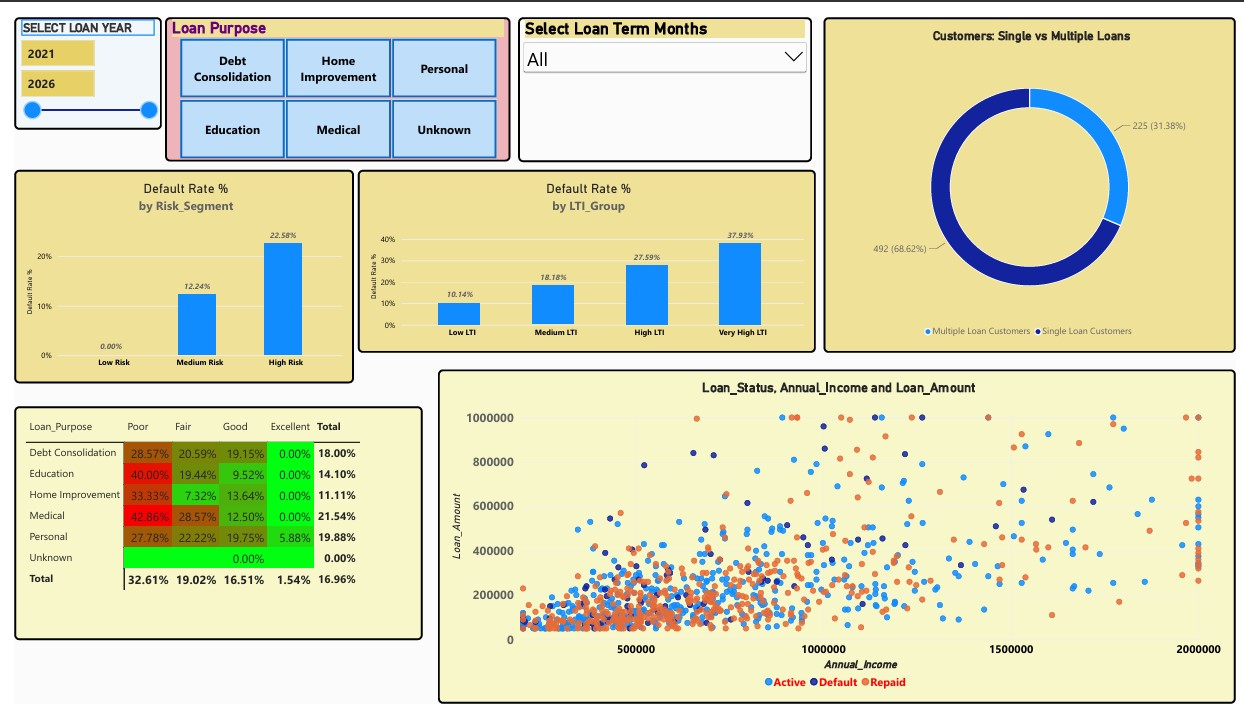

This screenshot's page, from the dashboard's own definition file:
{"tool":"powerbi","page":{"name":"Credit Risk and Customer Segmentation","canvas":[1920,1080],"ordinal":2},"visuals":[{"type":"slicer","fields":{"Values":["LDR.Loan_Year"]},"box":[0,0,232,177],"z":0},{"type":"slicer","fields":{"Values":["LDR.Loan_Purpose"]},"box":[237.1,0,542.9,227.1],"z":1000},{"type":"slicer","fields":{"Values":["LDR.Loan_Term_Months"]},"box":[792,0,462,228],"z":2000},{"type":"columnChart","fields":{"Category":["LDR.Risk_Segment"],"Y":["LDR.Default Rate %"]},"box":[0,240,534,336],"z":4000},{"type":"columnChart","fields":{"Category":["LDR.LTI_Group"],"Y":["LDR.Default Rate %"]},"box":[540,240,720,288],"z":5000},{"type":"donutChart","title":"Customers: Single vs Multiple Loans","fields":{"Y":["LDR.Multiple Loan Customers","LDR.Single Loan Customers"]},"box":[1272,0,648,528],"z":6000},{"type":"pivotTable","fields":{"Columns":["LDR.Credit_Score_Group"],"Rows":["LDR.Loan_Purpose"],"Values":["LDR.Default Rate %"]},"box":[0,612,642,368],"z":6001},{"type":"scatterChart","fields":{"Series":["LDR.Loan_Status"],"X":["LDR.Annual_Income"],"Y":["LDR.Loan_Amount"]},"box":[666,554,1254,526],"z":6002}]}

Visuals, with their boxes in screenshot pixels (x1, y1, x2, y2), scaled from the page's 1920x1080 canvas onto the 1244x710 screenshot:
slicer - LDR.Loan_Year: bbox=[0, 0, 150, 116]
slicer - LDR.Loan_Purpose: bbox=[154, 0, 505, 149]
slicer - LDR.Loan_Term_Months: bbox=[513, 0, 812, 150]
columnChart - LDR.Risk_Segment x LDR.Default Rate %: bbox=[0, 158, 346, 379]
columnChart - LDR.LTI_Group x LDR.Default Rate %: bbox=[350, 158, 816, 347]
"Customers: Single vs Multiple Loans" donutChart: bbox=[824, 0, 1243, 347]
pivotTable - LDR.Credit_Score_Group x LDR.Loan_Purpose: bbox=[0, 402, 416, 644]
scatterChart - LDR.Loan_Status x LDR.Annual_Income: bbox=[432, 364, 1243, 709]
